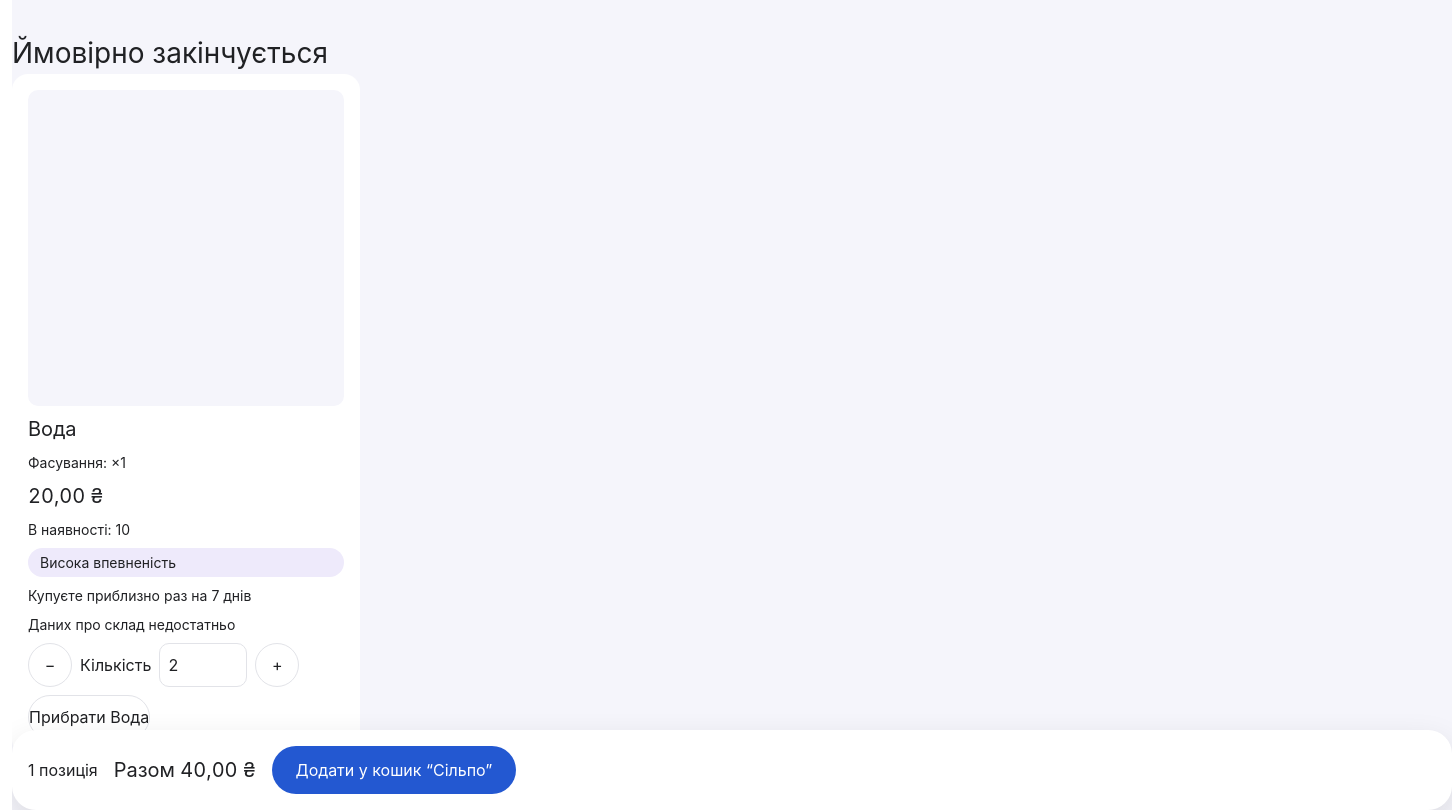
Test case: DraftEditor › T15-02 disables confirmation for empty input
Clear the number field named "Кількість для Вода" at (203, 665), box [159,643,247,687]
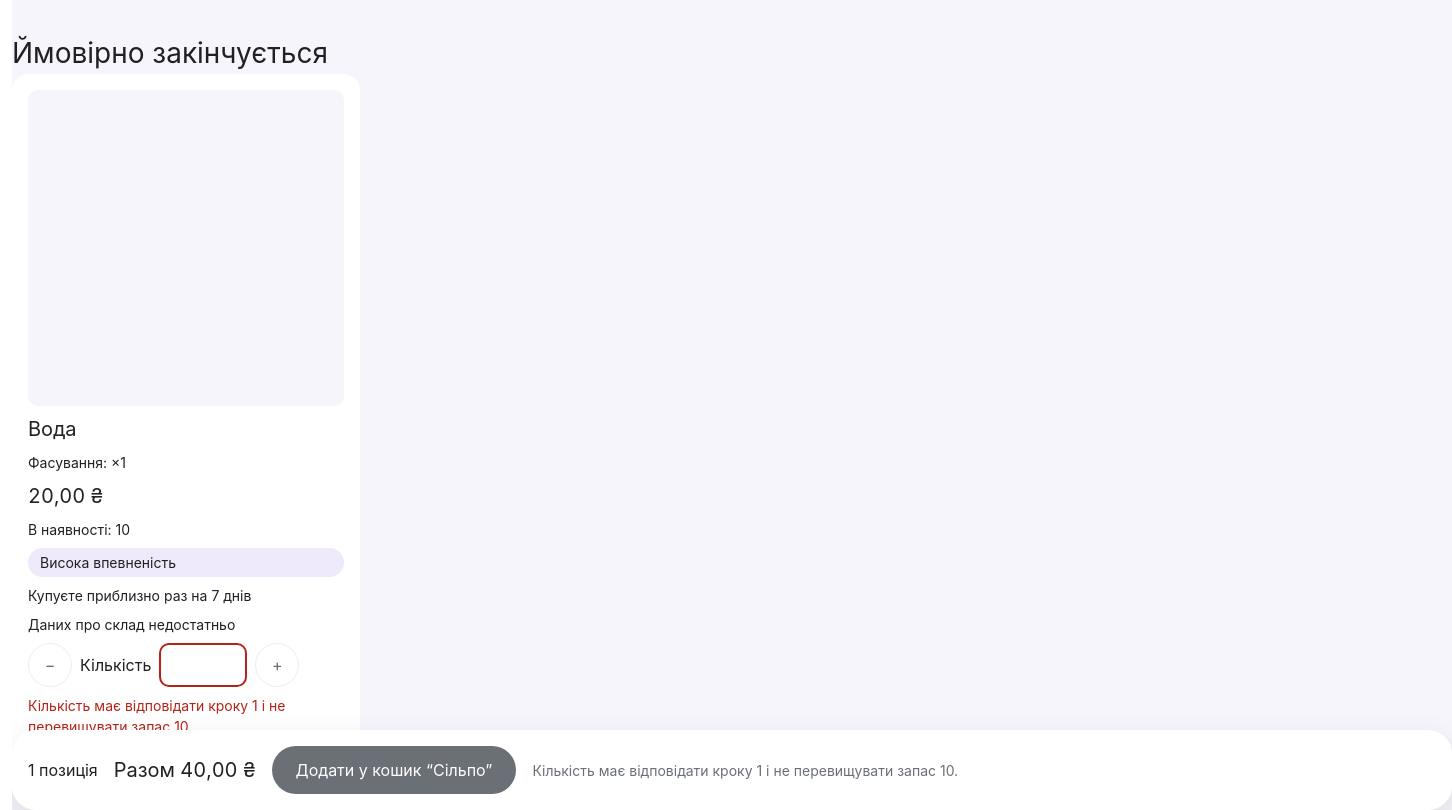
Check: the button "Додати у кошик “Сільпо”" is disabled, box [272,746,516,794]
